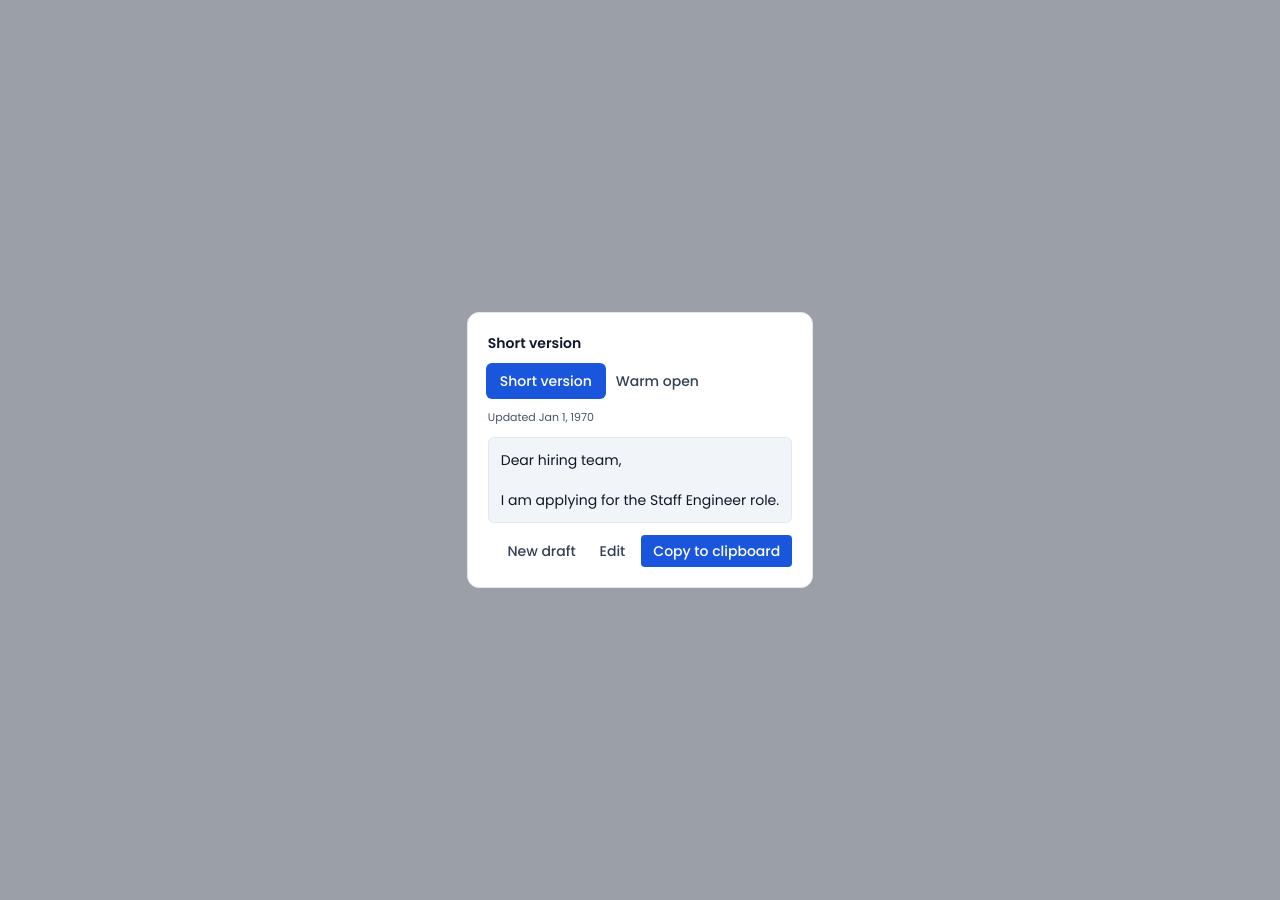
LetterRevealDialog › clears a previous failure when a different draft is picked
Step 1. Click the button "Copy to clipboard" → click(717, 551), box [641, 535, 792, 567]
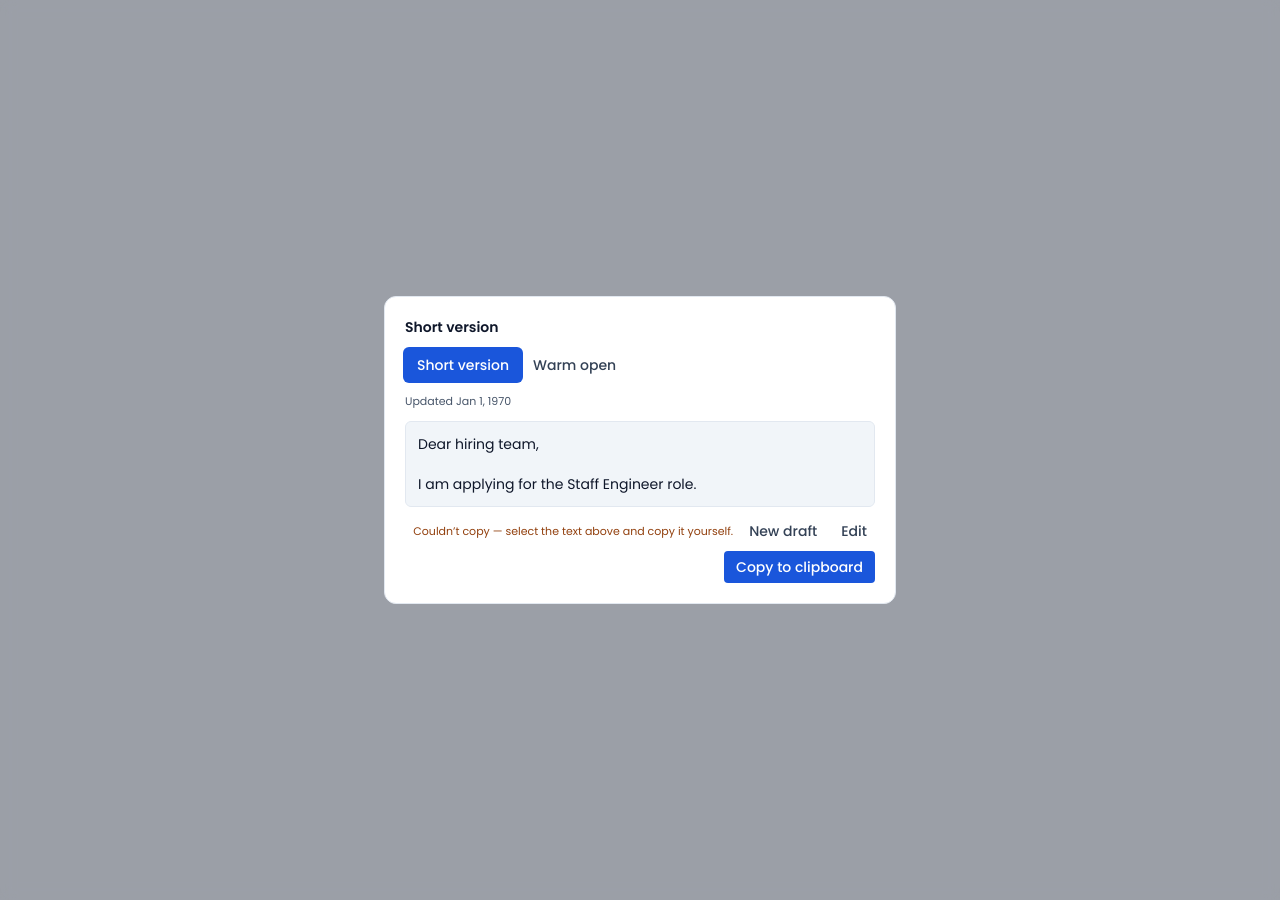
Now the text "Couldn’t copy" is shown, box [413, 523, 733, 539]
Step 2. Click the button "Warm open" → click(575, 365), box [525, 353, 624, 377]
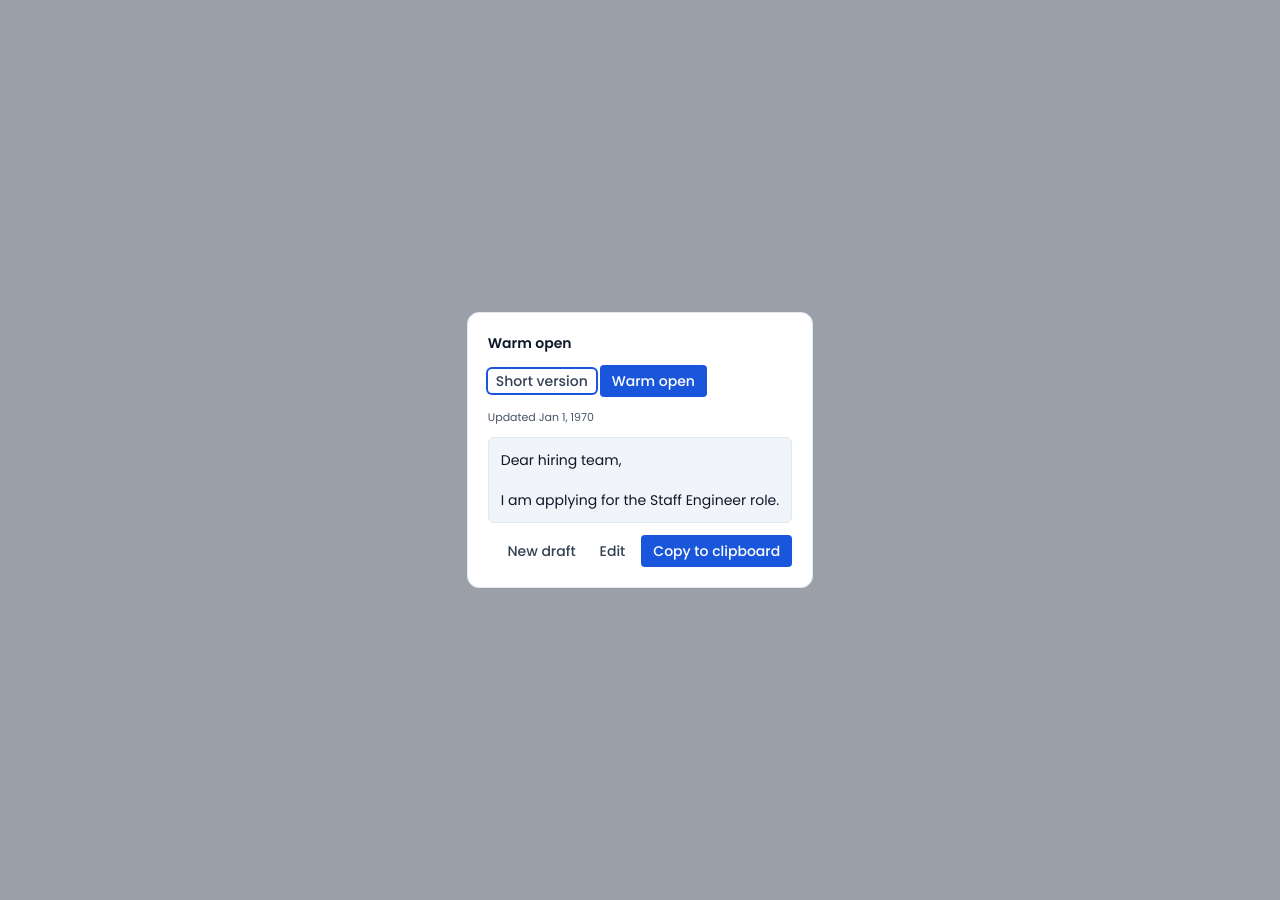
Now the text "Couldn’t copy" is gone
